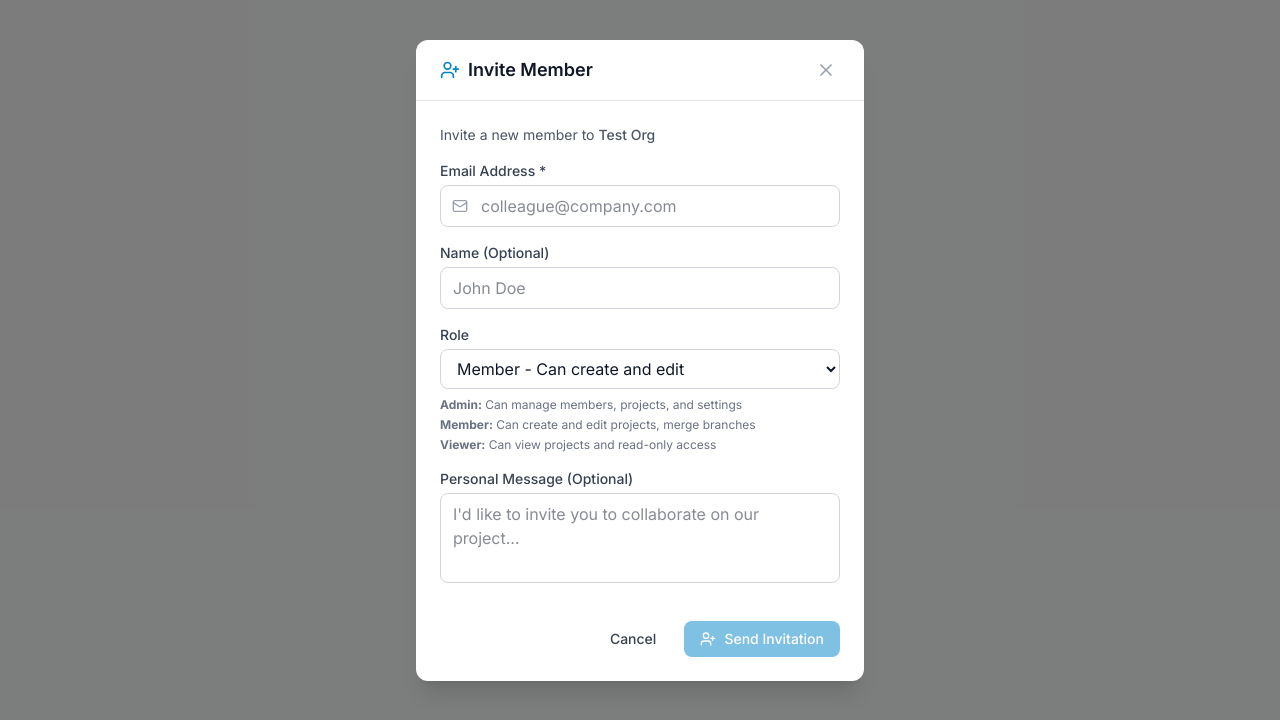
Test: InviteMemberModal › enables submit when email is provided
In the field with placeholder "colleague@company.com": (640, 206) [440,184,840,226], type "test@example.com"
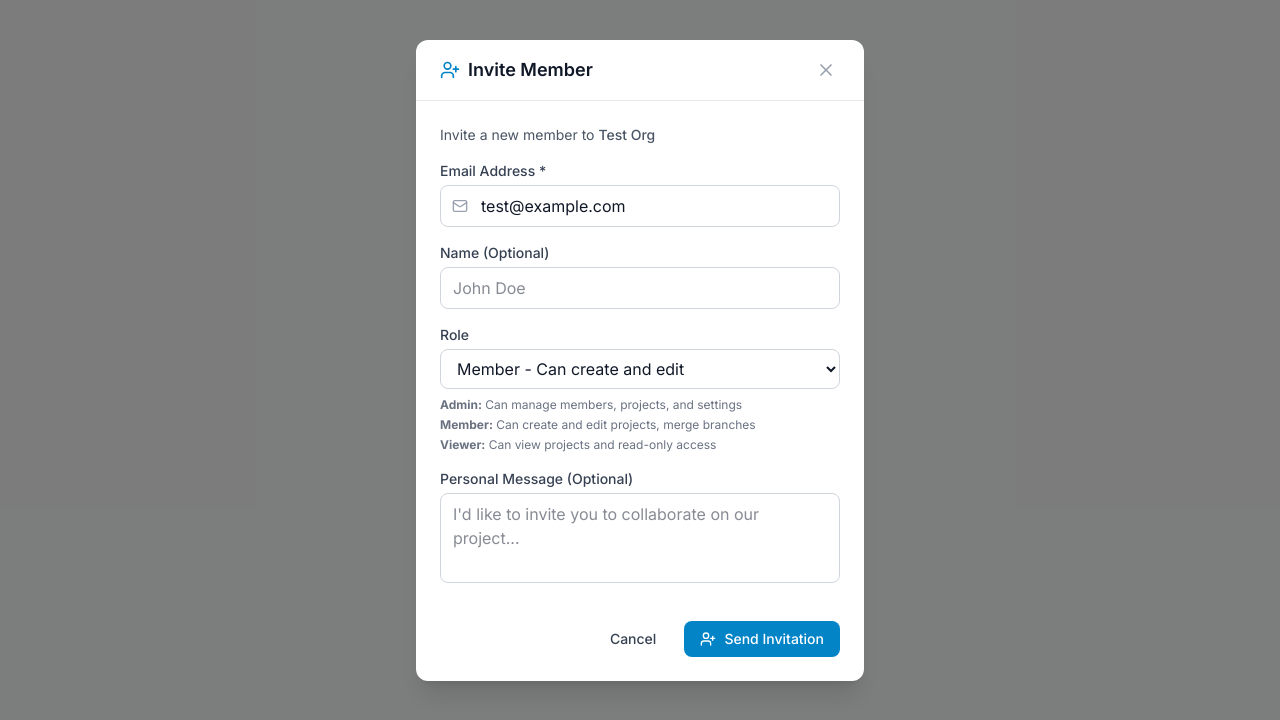
Expected: the button "Send Invitation" is enabled, [684,620,840,656]
